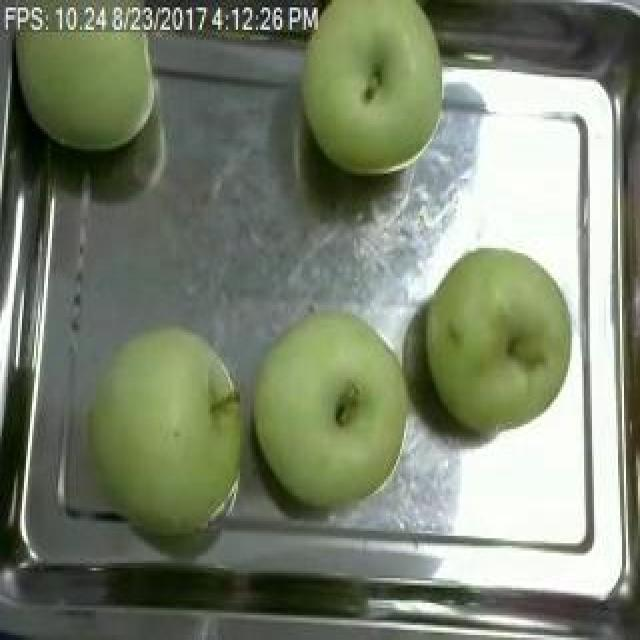Rotten Apple: (77, 310, 249, 556), (256, 284, 414, 510), (419, 238, 569, 439)
